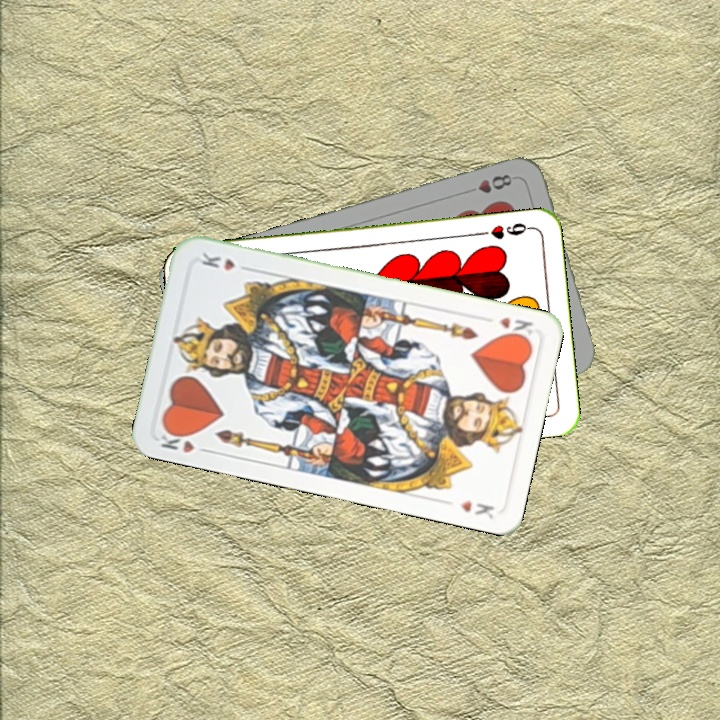H8: (461, 170, 515, 197)
H9: (476, 218, 535, 242)
HK: (155, 424, 213, 456), (495, 313, 536, 343)
